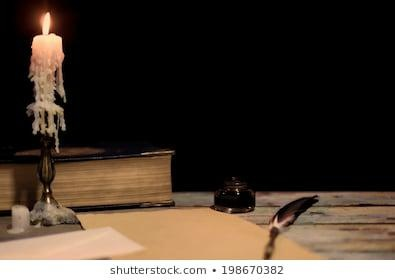fire: (37, 8, 54, 36)
